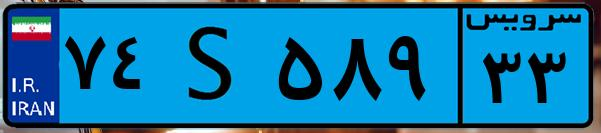3: (475, 38, 525, 113), (525, 38, 570, 115)
4: (110, 28, 158, 98)
5: (270, 28, 330, 110)
7: (57, 26, 110, 100)
8: (330, 28, 385, 110)
9: (385, 28, 445, 110)
S: (158, 12, 270, 120)
